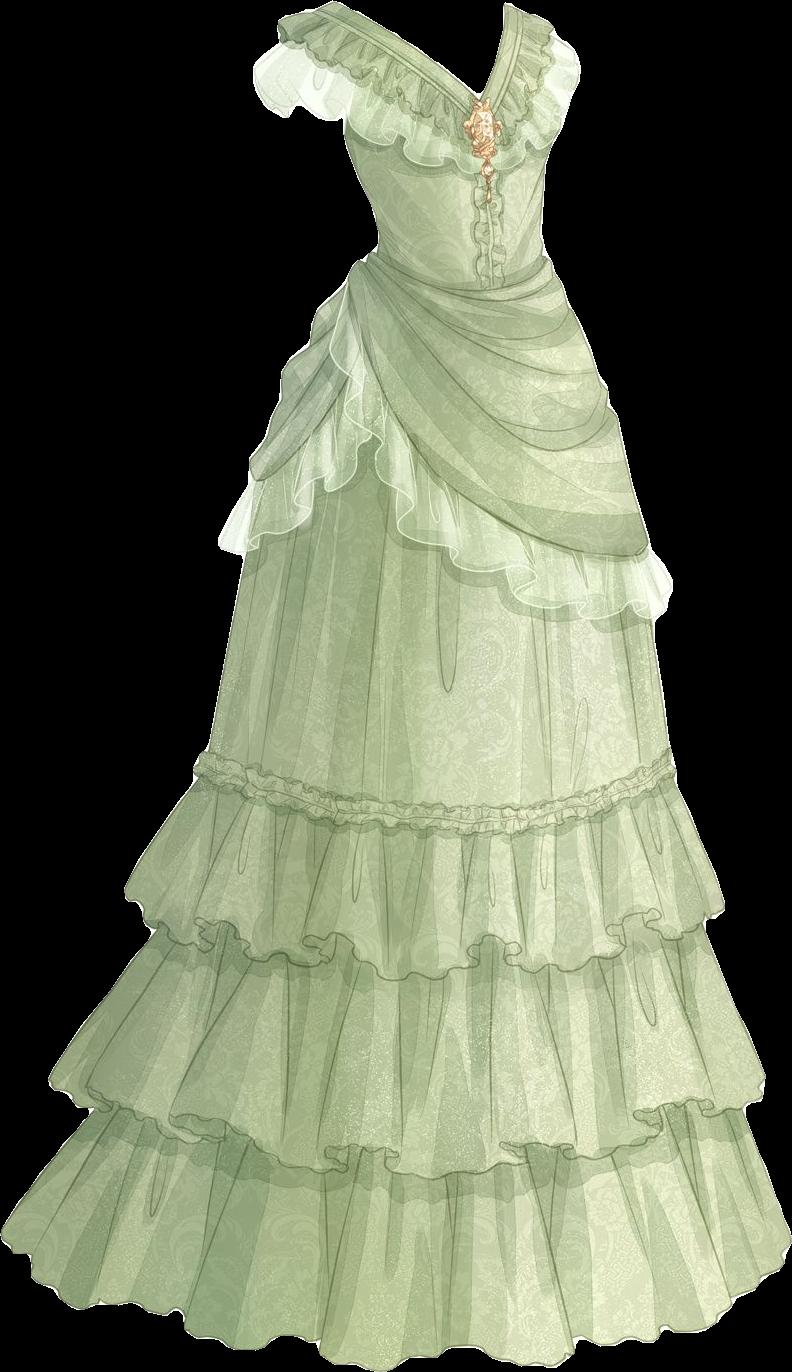Bodice: (253, 1, 580, 309)
Hemline: (328, 275, 671, 629), (0, 1229, 791, 1371), (40, 1071, 769, 1185), (113, 881, 732, 993), (218, 447, 375, 551)
Neckline: (333, 0, 513, 111)
Skirt: (1, 250, 790, 1371)
Waistline: (244, 58, 588, 185), (193, 753, 680, 830), (365, 247, 563, 320)
